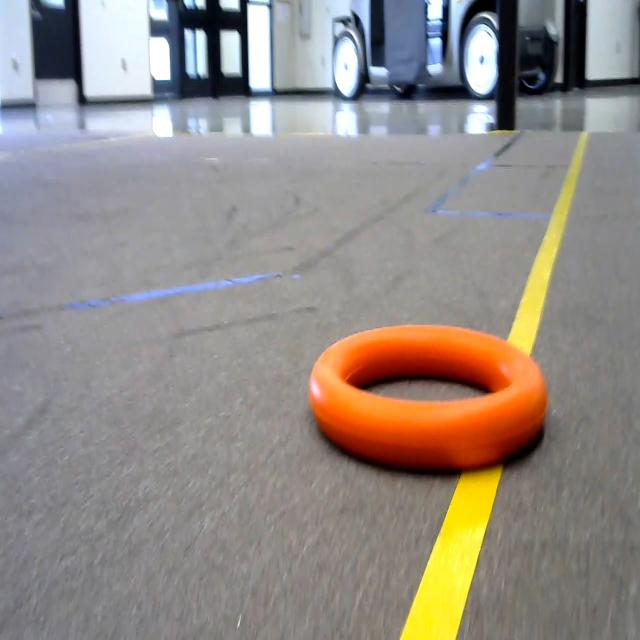note: (305, 294, 567, 508)
